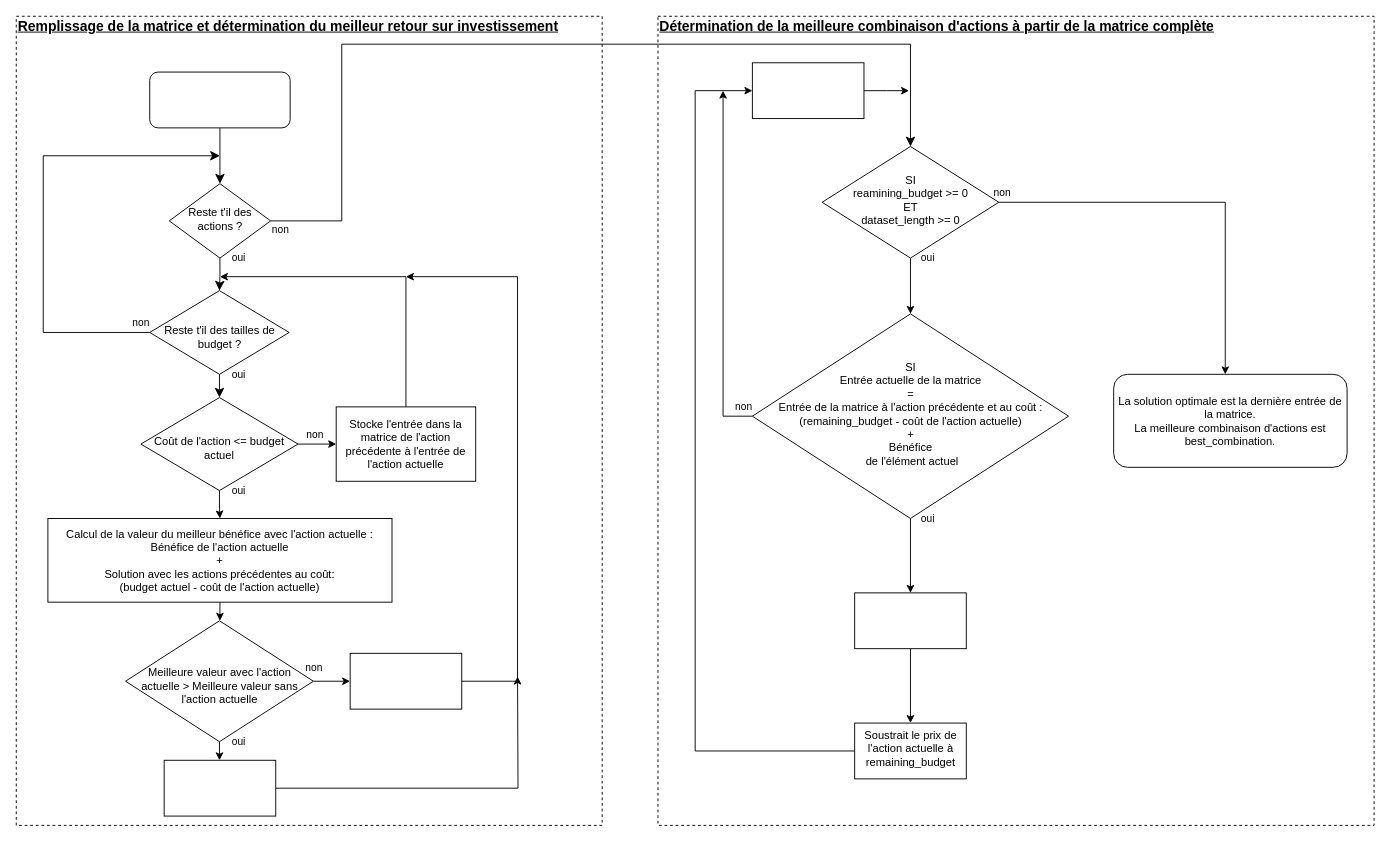
Some shapes in this 1390 by 842 pixel diagram are drawn without their labels. Here are the shapes that lost their labels. From the top down, the box of each, then its label:
(149, 71, 290, 128): Initialisation de la matrice (taille: max_investment * dataset_length)
(751, 62, 864, 119): Soustrait 1 à dataset_length
(854, 592, 966, 649): Ajoute l'action actuelle à la liste best_combination
(349, 652, 462, 709): Stocke la meilleure valeur sans l'action actuelle dans la matrice
(163, 759, 276, 816): Stocke la meilleure valeur avec l'ation actuelle dans la matrice
